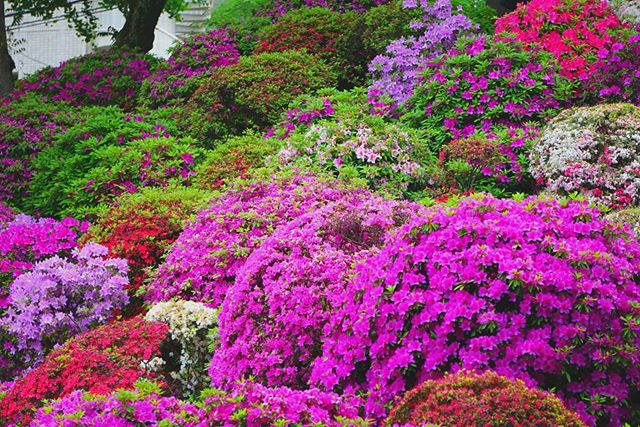flowers: (2, 1, 638, 422)
